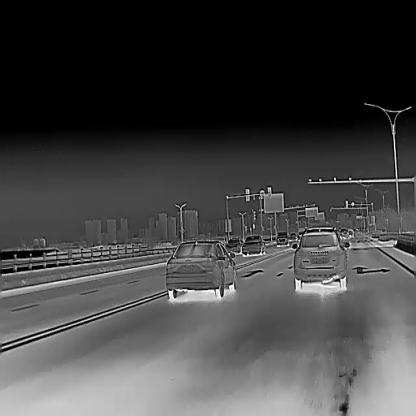car: (164, 240, 238, 300), (291, 225, 350, 289), (241, 233, 265, 255), (224, 238, 243, 255), (276, 231, 288, 245), (340, 230, 350, 240), (346, 227, 354, 239), (288, 232, 296, 242), (298, 232, 304, 238)
